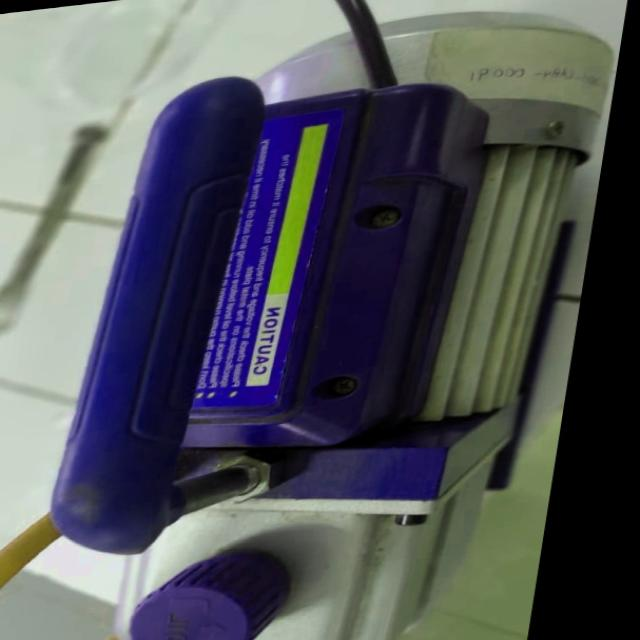Vacuum Pump: (19, 0, 632, 640)
